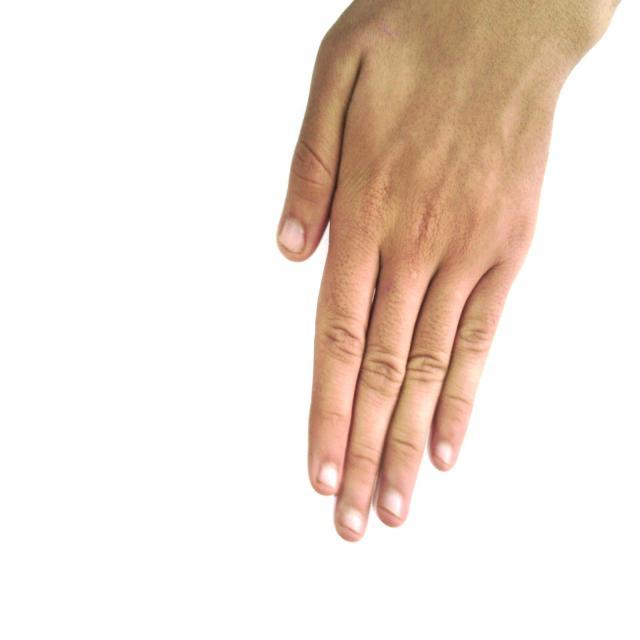Fingernail: (280, 219, 304, 252), (381, 489, 402, 518), (342, 508, 362, 533), (320, 462, 338, 488), (437, 441, 453, 464)
